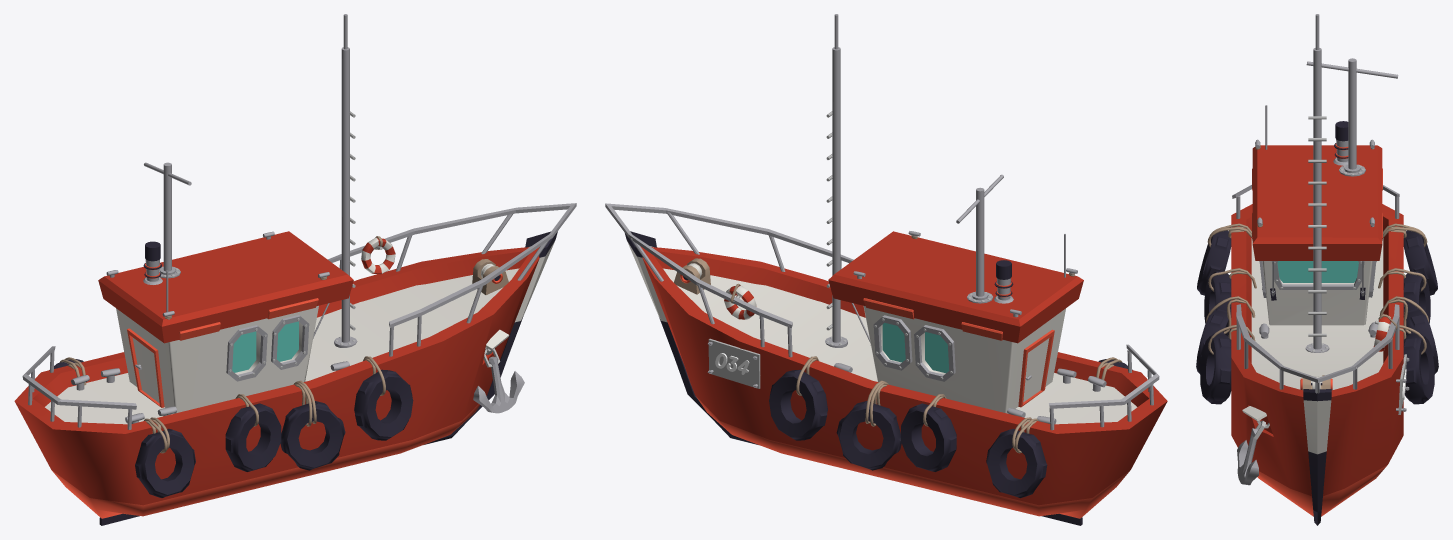
The model's file is corabl.glb.
3 renders of one model, left to right at view 1: azimuth 30°, elevation 25°; view 2: azimuth 150°, elevation 25°; view 3: azimuth 270°, elevation 25°, orthographic. The views are drawn at different scales.
Parts seen in each view (by area): view 1: polySurface22, pCube49, pCylinder203, polySurface19, polySurface18, polySurface24, pCylinder274, pCube52, polySurface23, pCube54, polySurface21, pCylinder275 (+4 smaller); view 2: polySurface22, pCube49, pCylinder203, polySurface18, polySurface19, polySurface24, pCylinder274, polySurface23, pCube51, typeMesh3, polySurface21, pCylinder275 (+3 smaller); view 3: polySurface22, pCube49, pCylinder203, polySurface19, polySurface18, polySurface23, pCylinder274, polySurface24, pCylinder275, pCube54, pCube53, typeMesh3 (+3 smaller).
Boxes of the visible parts, left/top/right/bottom form: polySurface22: left=14, top=247, right=539, bottom=518; pCube49: left=98, top=231, right=353, bottom=343; pCylinder203: left=49, top=356, right=413, bottom=497; polySurface19: left=45, top=268, right=519, bottom=424; polySurface18: left=116, top=305, right=318, bottom=413; polySurface24: left=328, top=203, right=576, bottom=356; pCylinder274: left=341, top=47, right=349, bottom=342; pCube52: left=226, top=315, right=309, bottom=381; polySurface23: left=99, top=231, right=557, bottom=525; pCube54: left=473, top=356, right=524, bottom=413; polySurface21: left=22, top=346, right=136, bottom=409; pCylinder275: left=163, top=162, right=171, bottom=271; polySurface22: left=640, top=246, right=1167, bottom=518; pCube49: left=828, top=231, right=1083, bottom=343; pCylinder203: left=769, top=356, right=1132, bottom=498; polySurface18: left=863, top=306, right=1065, bottom=413; polySurface19: left=663, top=268, right=1137, bottom=424; polySurface24: left=605, top=203, right=853, bottom=357; pCylinder274: left=832, top=47, right=840, bottom=342; polySurface23: left=625, top=231, right=1082, bottom=525; pCube51: left=873, top=315, right=955, bottom=381; typeMesh3: left=707, top=338, right=760, bottom=388; polySurface21: left=1049, top=344, right=1159, bottom=408; pCylinder275: left=976, top=187, right=984, bottom=296; polySurface22: left=1231, top=204, right=1403, bottom=516; pCube49: left=1252, top=145, right=1382, bottom=260; pCylinder203: left=1196, top=223, right=1438, bottom=404; polySurface19: left=1251, top=238, right=1383, bottom=389; polySurface18: left=1262, top=261, right=1372, bottom=325; polySurface23: left=1303, top=389, right=1331, bottom=525; pCylinder274: left=1313, top=48, right=1321, bottom=349; polySurface24: left=1236, top=304, right=1399, bottom=393; pCylinder275: left=1348, top=58, right=1356, bottom=169; pCube54: left=1237, top=428, right=1258, bottom=485; pCube53: left=1272, top=261, right=1364, bottom=289; typeMesh3: left=1396, top=354, right=1409, bottom=414.
Size of the model in its own units: 0.1388 by 0.1101 by 0.0527.
